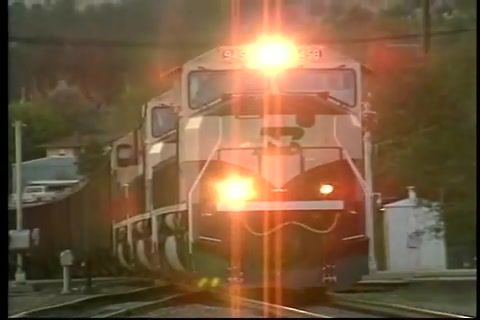train: (6, 37, 371, 295)
